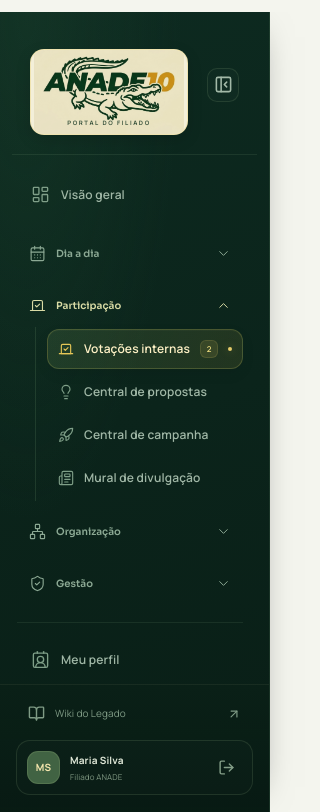
abre a seção da página atual e mantém conteúdo de outros submenus fora do teclado
The image size is (320, 812).
expect the link "Agenda do partido" is not shown: met
Click the button "Dia a dia": (130, 254) [17,232,243,275]
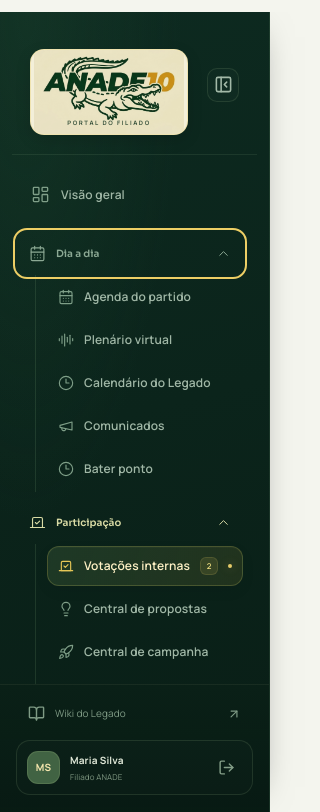
expect the link "Agenda do partido" is shown: met, box [58,288,191,305]
Click the button "Participação": (130, 522) [17,501,243,544]
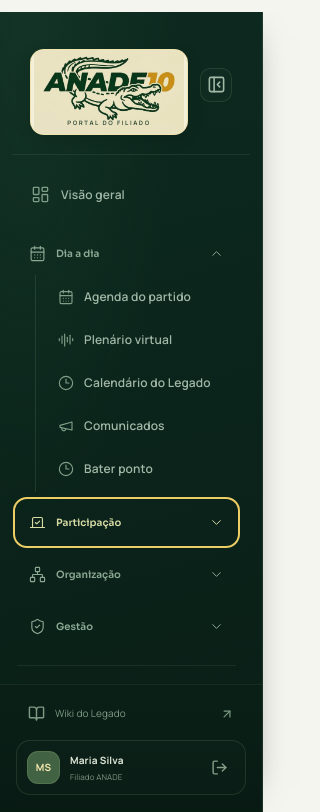
expect the link "Votações internas" is gone: met
